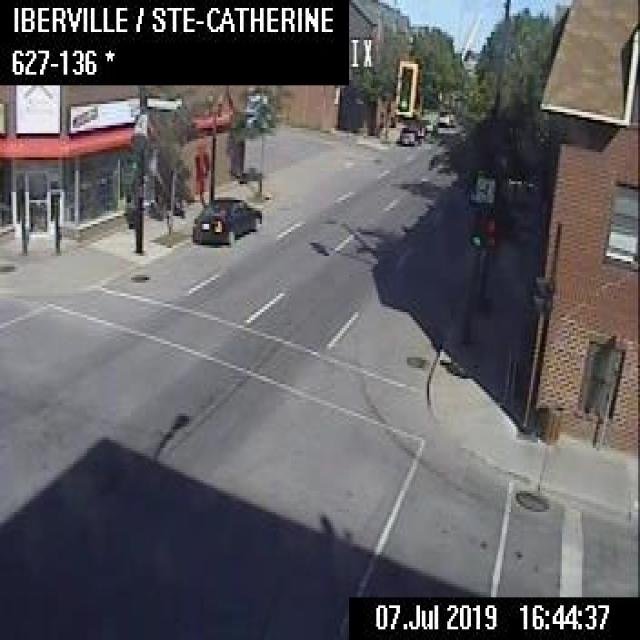vehicle: (190, 196, 260, 244), (398, 126, 420, 144), (435, 108, 450, 125)
